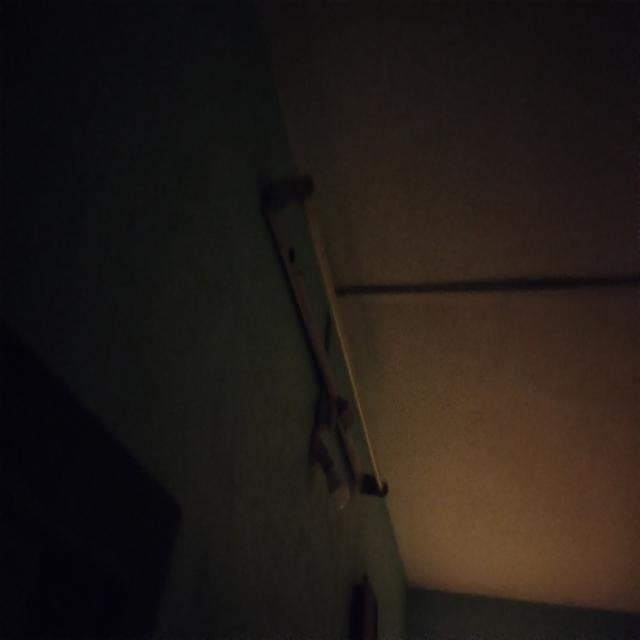tubelight_off: (262, 165, 394, 497)
